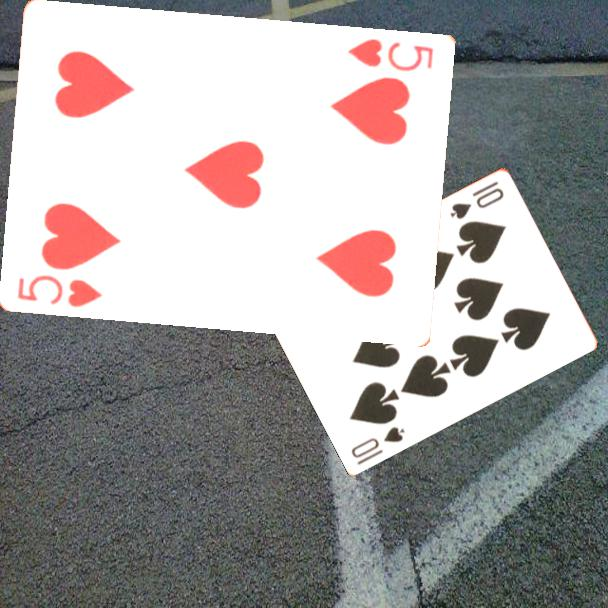h05: (345, 35, 437, 74), (15, 271, 105, 310)
s10: (446, 177, 507, 222), (348, 423, 408, 467)
